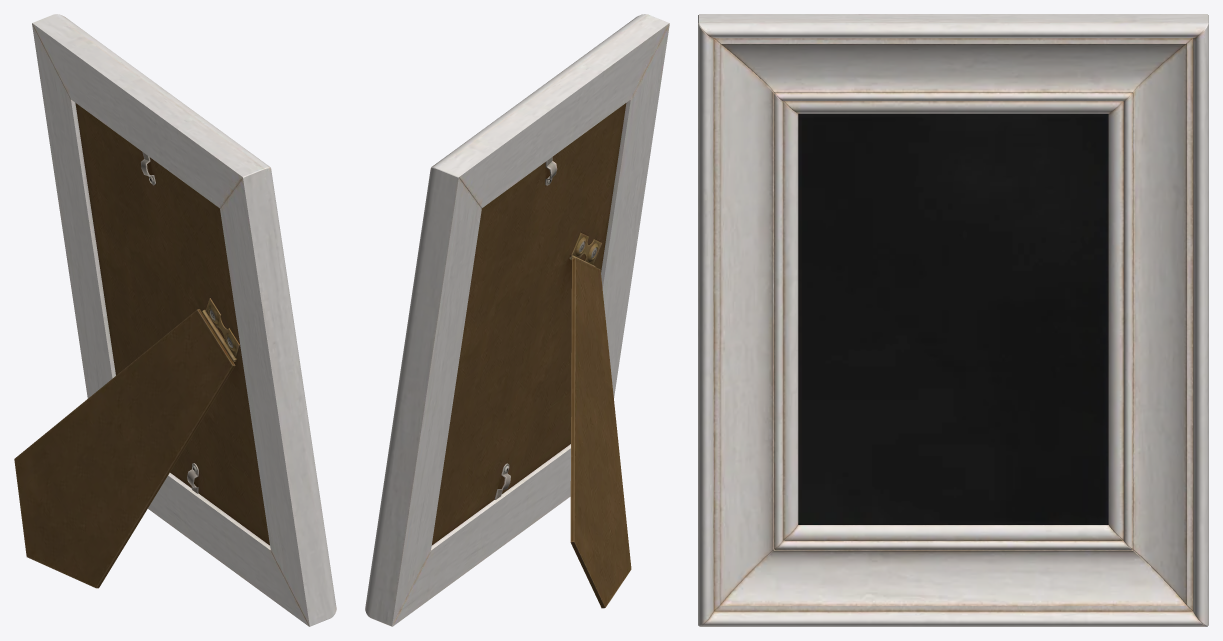
File: standing_picture_frame_02.glb
The picture shows the model from 3 angles, left to right: view 1: azimuth 30°, elevation 25°; view 2: azimuth 150°, elevation 25°; view 3: azimuth 270°, elevation 25°; orthographic projection. The views are drawn at different scales.
Visible parts, largest first — view 1: standing_picture_frame_02; view 2: standing_picture_frame_02; view 3: standing_picture_frame_02.
Boxes of the visible parts, x1,y1,x2,y2 form: standing_picture_frame_02: (14, 14, 336, 626); standing_picture_frame_02: (365, 14, 669, 626); standing_picture_frame_02: (698, 14, 1208, 626).
Size of the model in its own units: 0.1023 by 0.2664 by 0.2169.
3 materials, 3 textured.
